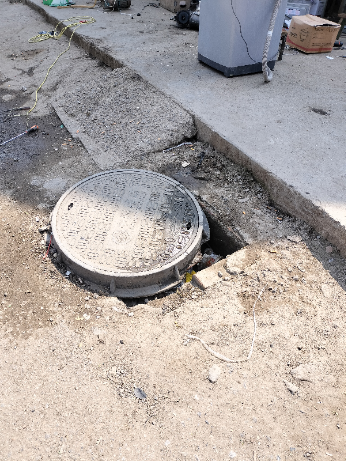well: (45, 168, 232, 300)
